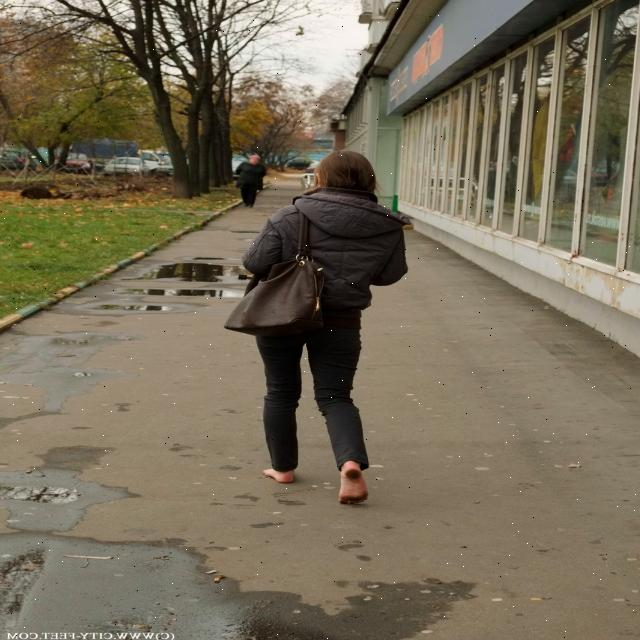No Safety Boots: (338, 464, 369, 504), (262, 468, 294, 484)
